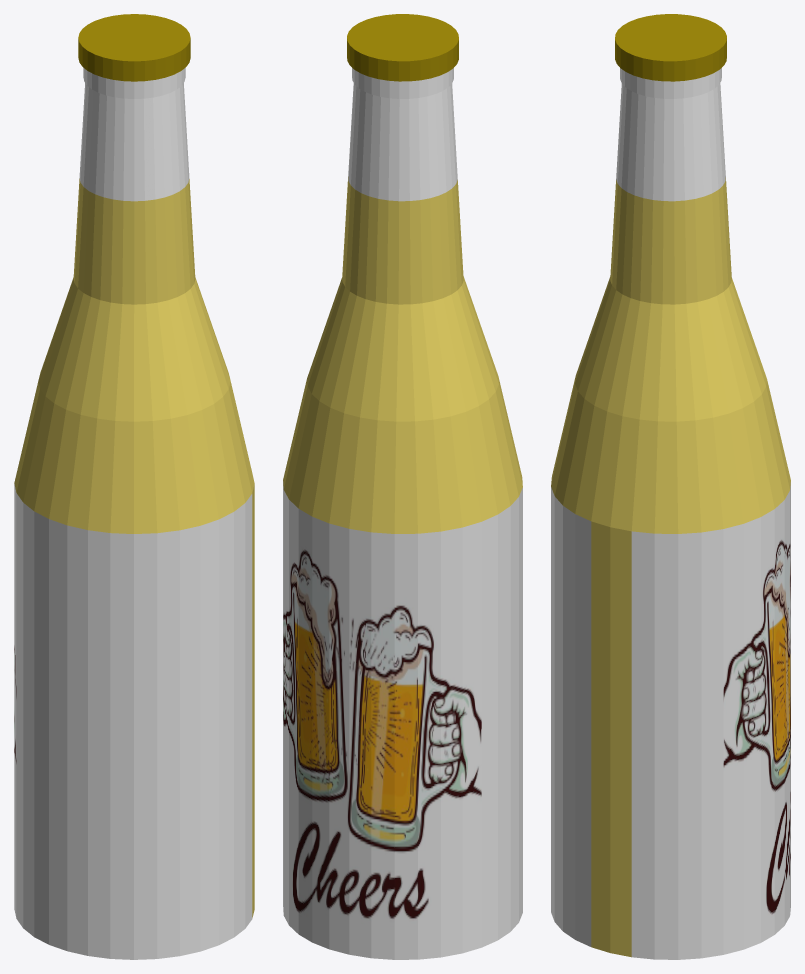
Rendered from Beer.fbx.
3 views of the same model, side by side, from view 1: azimuth 30°, elevation 25°; view 2: azimuth 150°, elevation 25°; view 3: azimuth 270°, elevation 25° (orthographic).
Visible parts, largest first — view 1: Cylinder.002; view 2: Cylinder.002; view 3: Cylinder.002.
Part boxes in pixels (box(x1,y1,x2,y2)): Cylinder.002: box(14, 14, 254, 959); Cylinder.002: box(283, 14, 522, 959); Cylinder.002: box(551, 14, 790, 959).
Bounding box in the file's own units: 60.28 × 242 × 60.28.
Materials: 1 (1 with a texture image).
